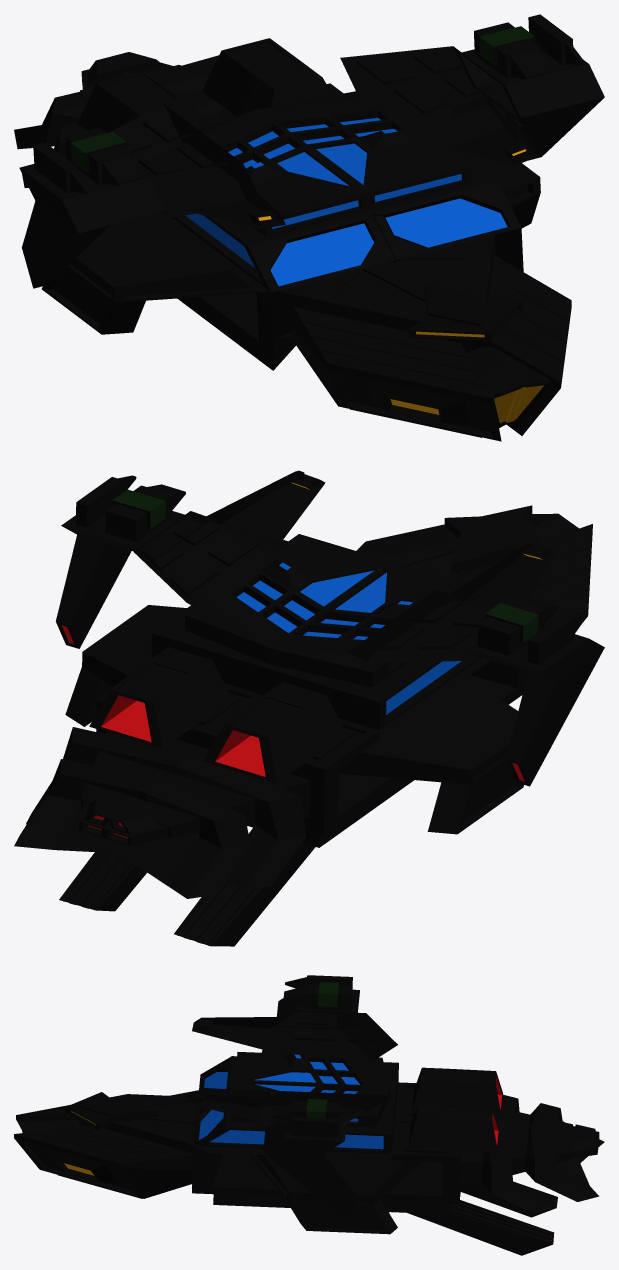
File: space_battleship_lowpoly.obj
The picture shows the model from 3 angles, top to bottom: view 1: azimuth 30°, elevation 25°; view 2: azimuth 150°, elevation 25°; view 3: azimuth 270°, elevation 25°; orthographic projection. The views are drawn at different scales.
Parts seen in each view (by area): view 1: Cube; view 2: Cube; view 3: Cube.
Boxes of the visible parts, <box> form: Cube: <box>14,14,604,441</box>; Cube: <box>14,470,604,946</box>; Cube: <box>14,975,604,1255</box>.
Bounding box in the file's own units: 15.2 × 8.02 × 23.06.
